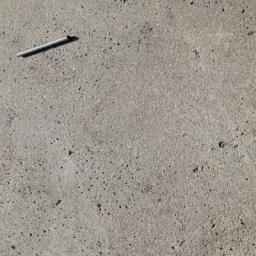FOD: (17, 35, 76, 62)
